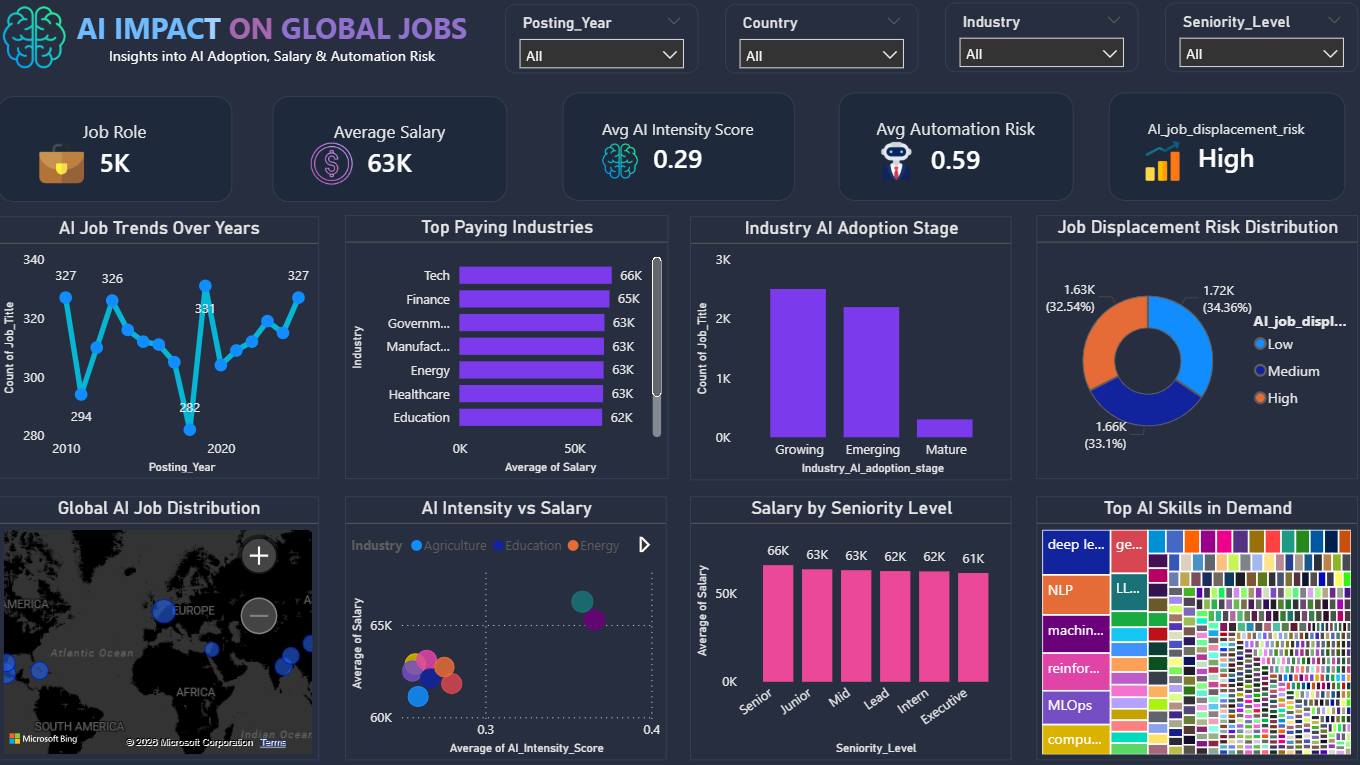

The dashboard page shown, as its layout file describes it:
{"tool":"powerbi","page":{"name":"Final ","canvas":[1280,720],"ordinal":3},"visuals":[{"type":"textbox","box":[71.2,7.4,382.8,73.6],"z":0},{"type":"slicer","fields":{"Values":["ai_impact_jobs_2010_2025.Posting_Year"]},"box":[478.5,8.6,180,65],"z":1000},{"type":"cardVisual","fields":{"Data":["Min(ai_impact_jobs_2010_2025.AI_job_displacement_risk)"]},"box":[1040.5,90.8,219.6,100.6],"z":2000},{"type":"lineChart","title":"AI Job Trends Over Years","fields":{"Category":["ai_impact_jobs_2010_2025.Posting_Year"],"Y":["CountNonNull(ai_impact_jobs_2010_2025.Job_Title)"]},"box":[7.4,206.1,299.4,244.2],"z":3000},{"type":"clusteredBarChart","title":"Top Paying Industries","fields":{"Category":["ai_impact_jobs_2010_2025.Industry"],"Y":["Avg(ai_impact_jobs_2010_2025.Salary)"]},"box":[330.1,204.9,300.6,245.4],"z":4000},{"type":"donutChart","title":"Job Displacement Risk Distribution","fields":{"Category":["ai_impact_jobs_2010_2025.AI_job_displacement_risk"],"Y":["CountNonNull(ai_impact_jobs_2010_2025.Job_Title)"]},"box":[973,204.9,299.4,245.4],"z":5000},{"type":"map","title":"Global AI Job Distribution","fields":{"Category":["ai_impact_jobs_2010_2025.Country"],"Size":["CountNonNull(ai_impact_jobs_2010_2025.Job_Title)"]},"box":[7.4,466.3,299.4,245.4],"z":6000},{"type":"scatterChart","title":"AI Intensity vs Salary","fields":{"X":["Avg(ai_impact_jobs_2010_2025.AI_Intensity_Score)"],"Y":["Avg(ai_impact_jobs_2010_2025.Salary)"],"Size":["Sum(ai_impact_jobs_2010_2025.Salary)"],"Series":["ai_impact_jobs_2010_2025.Industry"]},"box":[330.1,466.3,299.4,245.4],"z":7000},{"type":"treemap","title":"Top AI Skills in Demand","fields":{"Group":["ai_impact_jobs_2010_2025.AI_Skills"],"Values":["CountNonNull(ai_impact_jobs_2010_2025.AI_Skills)"]},"box":[973,466.3,299.4,245.4],"z":8000},{"type":"columnChart","title":"Industry AI Adoption Stage","fields":{"Category":["ai_impact_jobs_2010_2025.Industry_AI_adoption_stage"],"Y":["CountNonNull(ai_impact_jobs_2010_2025.Job_Title)"]},"box":[651.5,206.1,299.4,245.4],"z":9000},{"type":"columnChart","title":"Salary by Seniority Level","fields":{"Category":["ai_impact_jobs_2010_2025.Seniority_Level"],"Y":["Avg(ai_impact_jobs_2010_2025.Salary)"]},"box":[651.5,466.3,299.4,245.4],"z":10000},{"type":"slicer","fields":{"Values":["ai_impact_jobs_2010_2025.Seniority_Level"]},"box":[1093.3,7.4,180.4,65],"z":11000},{"type":"slicer","fields":{"Values":["ai_impact_jobs_2010_2025.Industry"]},"box":[888.3,7.4,180,65],"z":12000},{"type":"slicer","fields":{"Values":["ai_impact_jobs_2010_2025.Country"]},"box":[683.4,8.6,180,65],"z":13000},{"type":"cardVisual","fields":{"Data":["Avg(ai_impact_jobs_2010_2025.Automation_risk_score)"]},"box":[789,90.8,218.4,100.6],"z":14000},{"type":"cardVisual","fields":{"Data":["Avg(ai_impact_jobs_2010_2025.AI_Intensity_Score)"]},"box":[532.5,90.8,216,100.6],"z":15000},{"type":"cardVisual","fields":{"Data":["Avg(ai_impact_jobs_2010_2025.Salary)"]},"box":[262.6,94.5,218.4,98.2],"z":16000},{"type":"cardVisual","fields":{"Data":["CountNonNull(ai_impact_jobs_2010_2025.Job_Title)"]},"box":[7.4,94.5,218.4,98.2],"z":17000},{"type":"image","box":[0,7.4,82.2,65],"z":18000},{"type":"image","box":[293.3,136.2,49.1,41.7],"z":19000},{"type":"image","box":[558.3,136.2,56.4,36.8],"z":20000},{"type":"image","box":[1062.6,136.2,56.4,36.8],"z":21000},{"type":"image","box":[814.7,136.2,56.4,36.8],"z":22000},{"type":"image","box":[41.7,136.2,49.1,41.7],"z":23000}]}

Visuals, with their boxes in screenshot pixels (x1, y1, x2, y2), scaled from the page's 1280x720 canvas onto the 1360x765 screenshot:
textbox: detection(76, 8, 482, 86)
slicer - ai_impact_jobs_2010_2025.Posting_Year: detection(508, 9, 700, 78)
cardVisual - Min(ai_impact_jobs_2010_2025.AI_job_displacement_risk): detection(1106, 96, 1339, 203)
"AI Job Trends Over Years" lineChart: detection(8, 219, 326, 478)
"Top Paying Industries" clusteredBarChart: detection(351, 218, 670, 478)
"Job Displacement Risk Distribution" donutChart: detection(1034, 218, 1352, 478)
"Global AI Job Distribution" map: detection(8, 495, 326, 756)
"AI Intensity vs Salary" scatterChart: detection(351, 495, 669, 756)
"Top AI Skills in Demand" treemap: detection(1034, 495, 1352, 756)
"Industry AI Adoption Stage" columnChart: detection(692, 219, 1010, 480)
"Salary by Seniority Level" columnChart: detection(692, 495, 1010, 756)
slicer - ai_impact_jobs_2010_2025.Seniority_Level: detection(1162, 8, 1353, 77)
slicer - ai_impact_jobs_2010_2025.Industry: detection(944, 8, 1135, 77)
slicer - ai_impact_jobs_2010_2025.Country: detection(726, 9, 917, 78)
cardVisual - Avg(ai_impact_jobs_2010_2025.Automation_risk_score): detection(838, 96, 1070, 203)
cardVisual - Avg(ai_impact_jobs_2010_2025.AI_Intensity_Score): detection(566, 96, 795, 203)
cardVisual - Avg(ai_impact_jobs_2010_2025.Salary): detection(279, 100, 511, 205)
cardVisual - CountNonNull(ai_impact_jobs_2010_2025.Job_Title): detection(8, 100, 240, 205)
image: detection(0, 8, 87, 77)
image: detection(312, 145, 364, 189)
image: detection(593, 145, 653, 184)
image: detection(1129, 145, 1189, 184)
image: detection(866, 145, 926, 184)
image: detection(44, 145, 96, 189)
